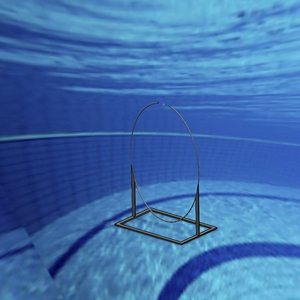circle: (113, 100, 219, 246)
